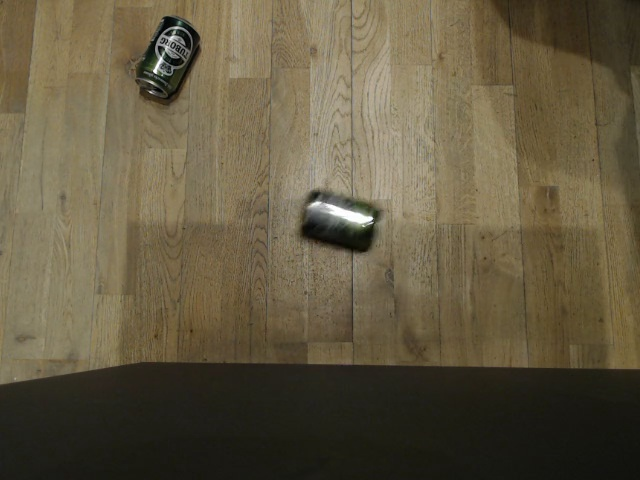beer: (132, 13, 202, 100), (298, 189, 379, 252)
